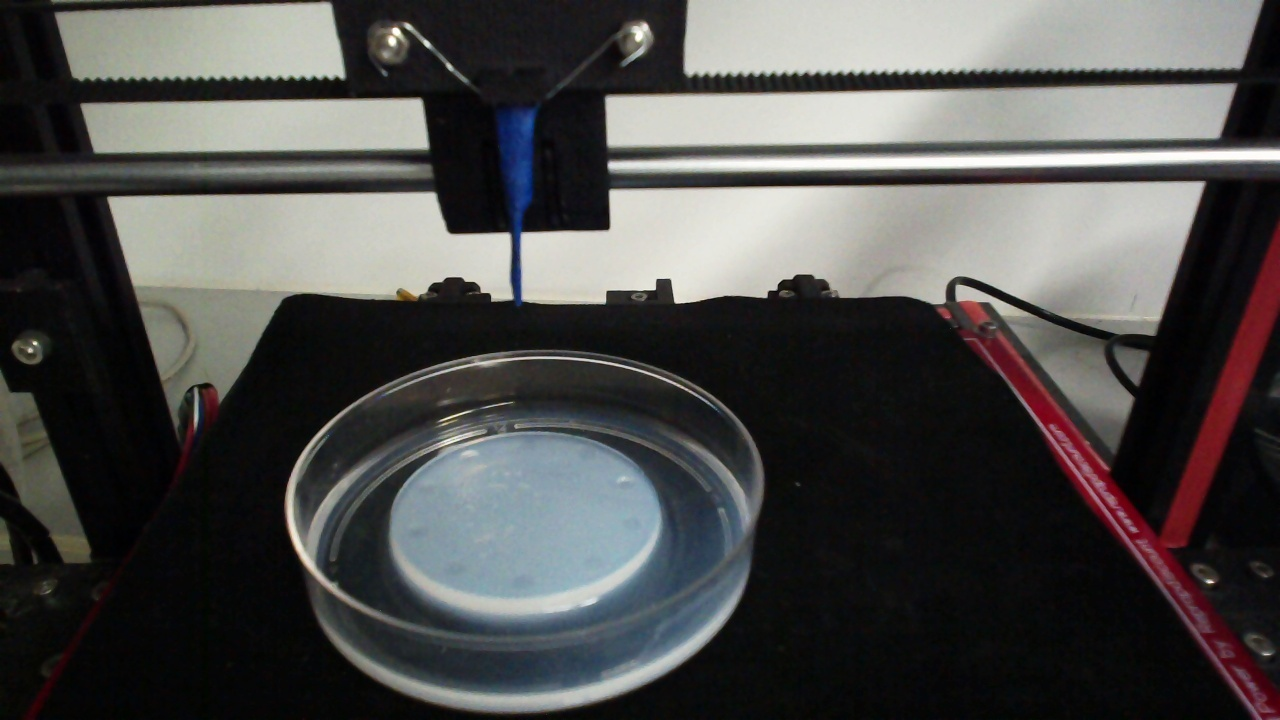groove: (506, 572, 536, 592), (578, 555, 608, 574), (574, 443, 602, 462), (617, 515, 645, 533), (405, 521, 430, 541), (439, 559, 467, 576), (514, 435, 540, 453), (612, 474, 639, 491), (415, 477, 438, 496), (457, 448, 479, 464)
needle: (500, 106, 534, 304)
